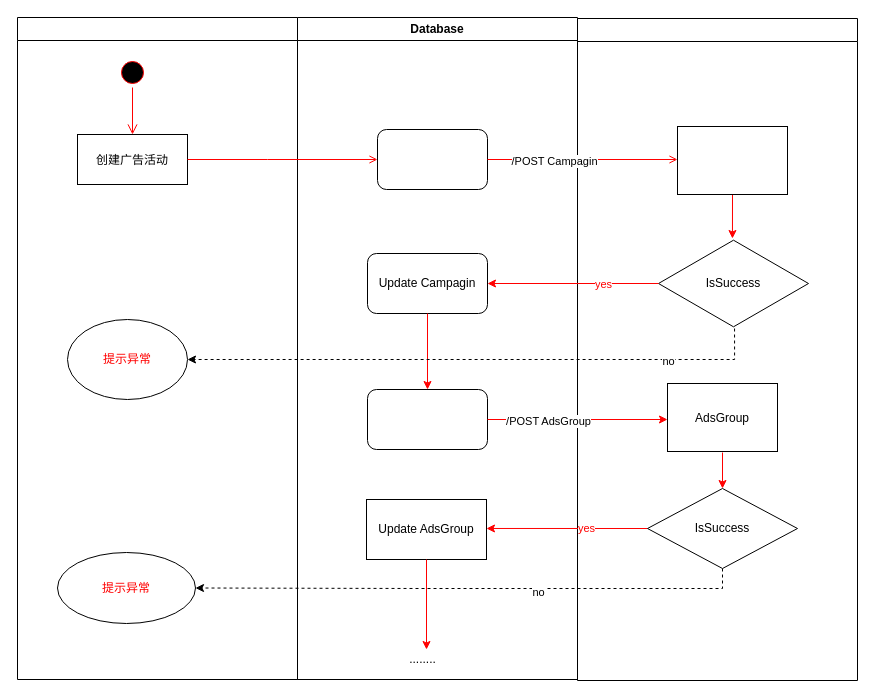
Some shapes in this 875 by 698 pixel diagram are drawn without their labels. The shapes that lost their labels are listed below. From the top down, each one's box as (x1, y1, x2, y2) in pixels, then its label:
(376, 128, 488, 190): Add Campagin
(676, 126, 788, 194): Campagin
(16, 16, 298, 680): User
(576, 18, 858, 680): API
(366, 388, 488, 450): Add AdsGroup
